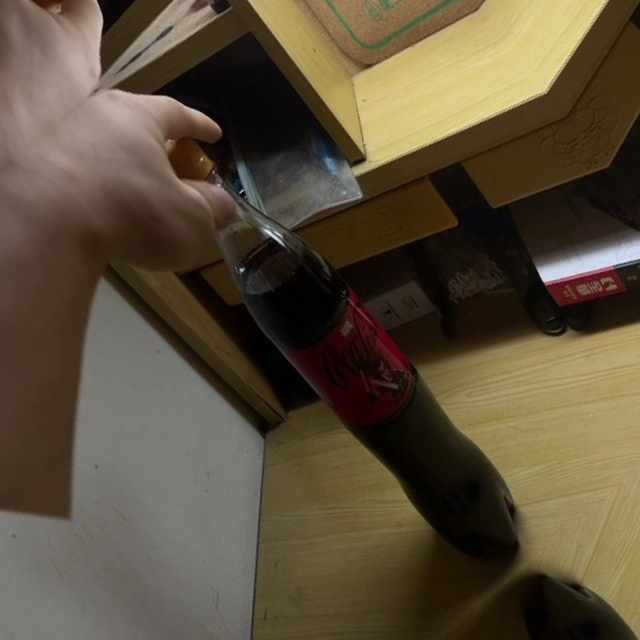Coca-Cola: (130, 113, 548, 586)
